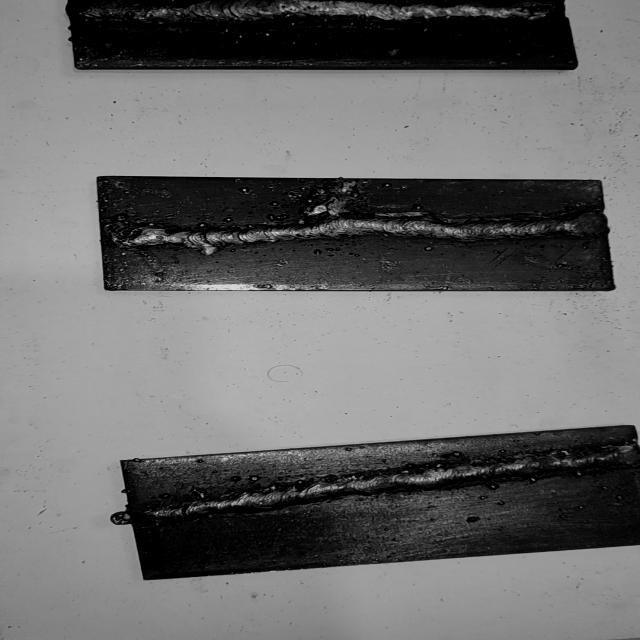Bad Weld: (104, 210, 605, 249)
Defect: (304, 180, 378, 243), (101, 209, 161, 258)
Good Weld: (134, 442, 640, 530), (77, 0, 564, 23)
